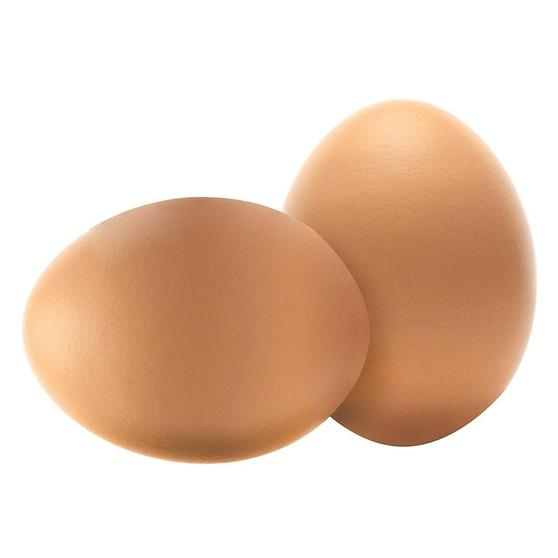egg: (21, 197, 365, 465)
